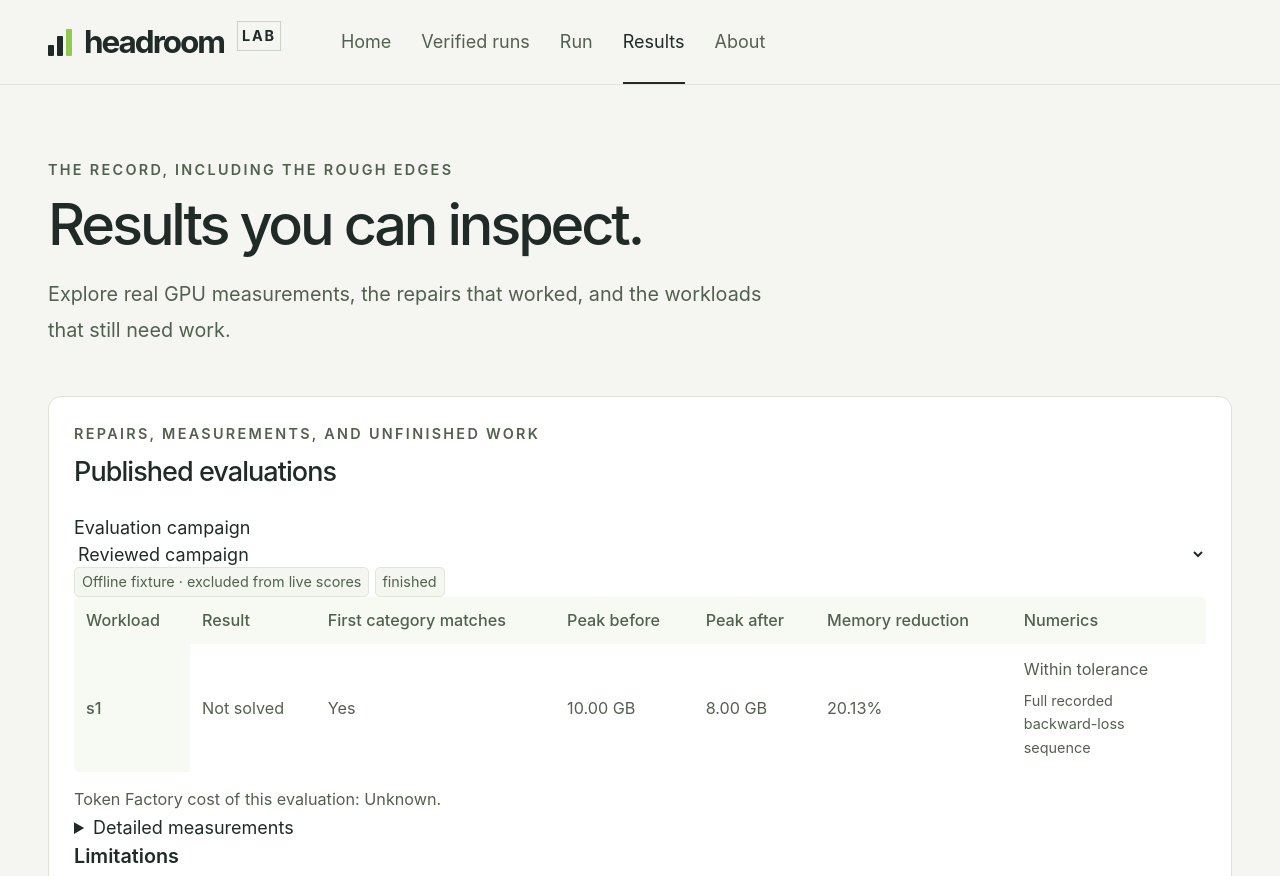
published evaluation results › shows complete columns, unknown metrics and fixture exclusion
Click the heading "Detailed measurements" at (193, 827), box [93, 817, 294, 838]
(page scrolled)
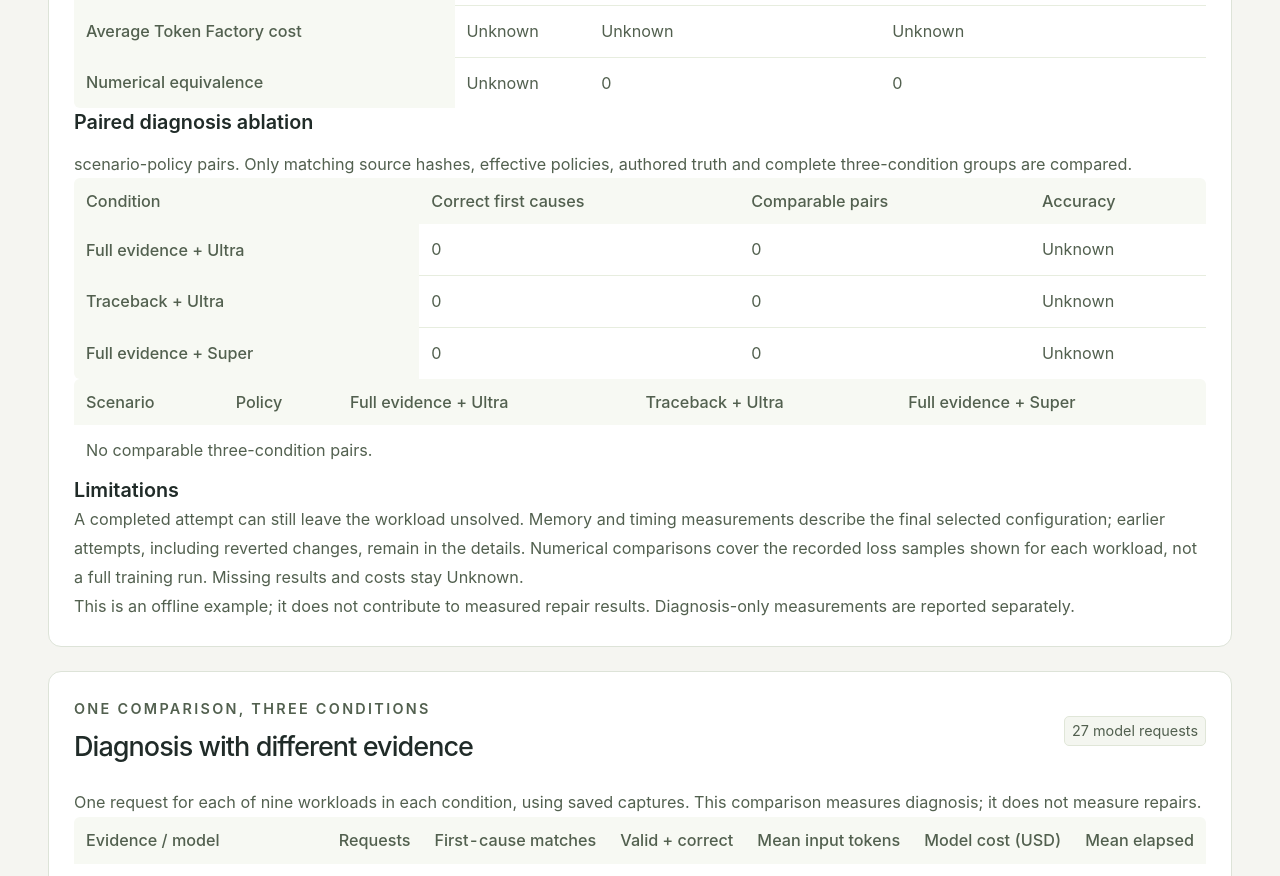
Expected: the text "This is an offline example" is shown, [74, 596, 650, 616]
Now the text "No comparable three-condition pairs." is shown, box [74, 425, 1206, 476]
